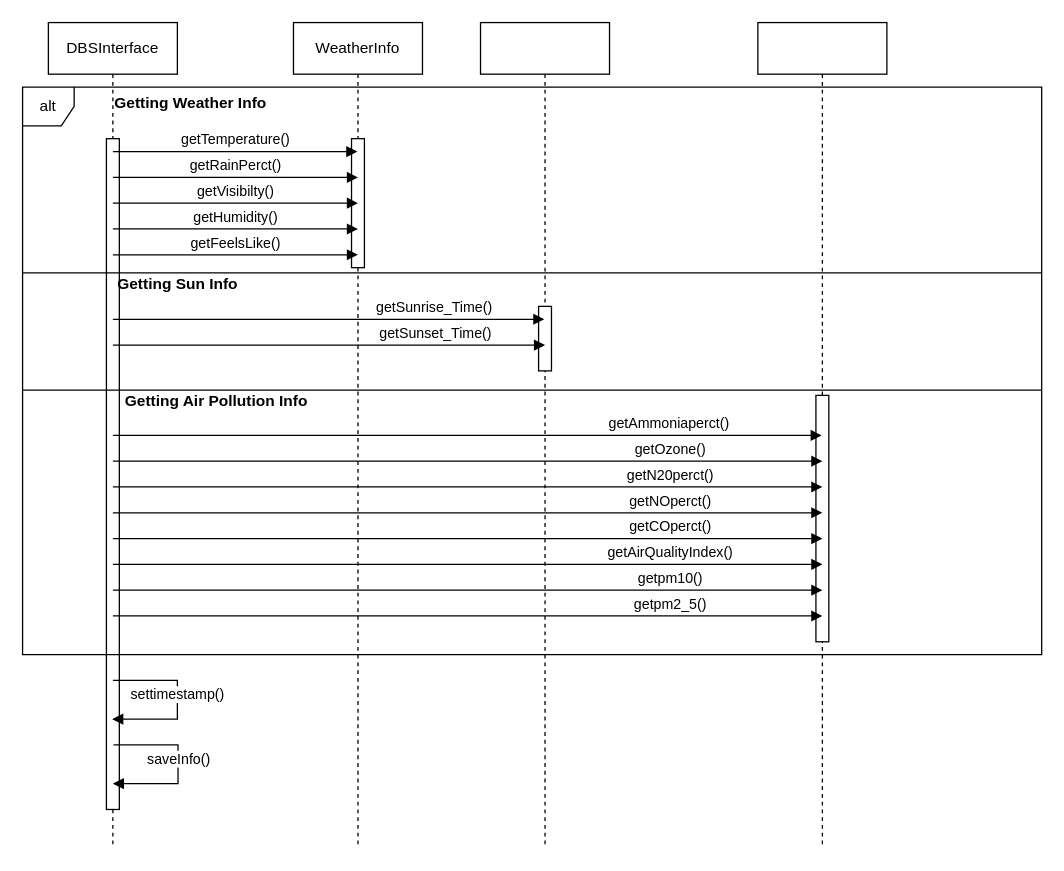
This 1064x871 diagram has some shape labels left out. Each missing label, with the box of its shape:
AirPollutionInfo: (757, 21, 887, 848)
SunInfo: (479, 21, 610, 848)
